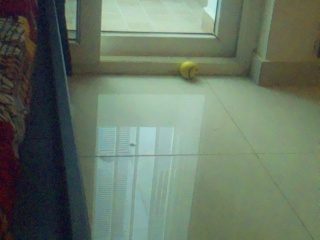ball: (180, 61, 198, 79)
